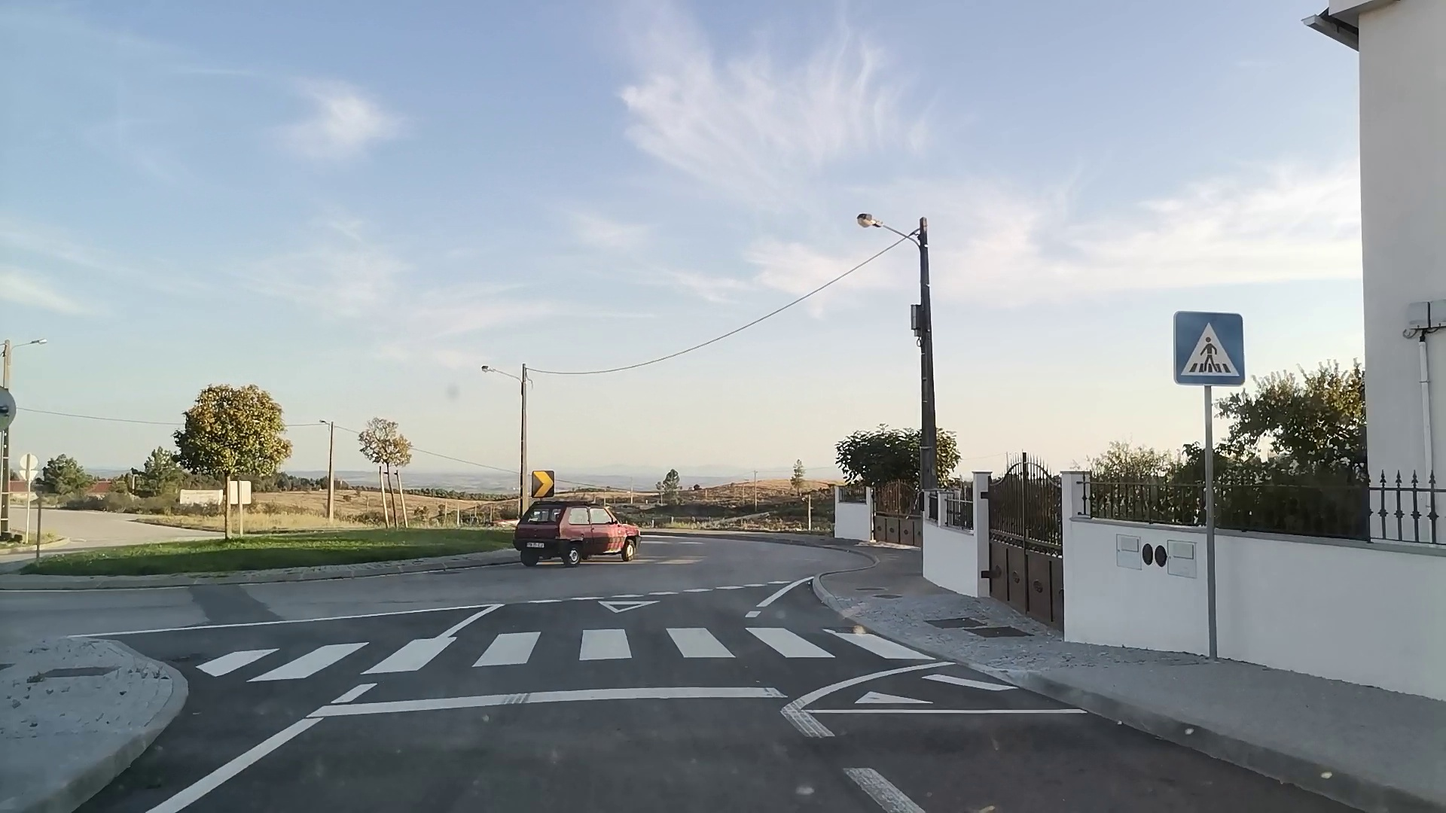Stairs: (185, 624, 936, 683)
